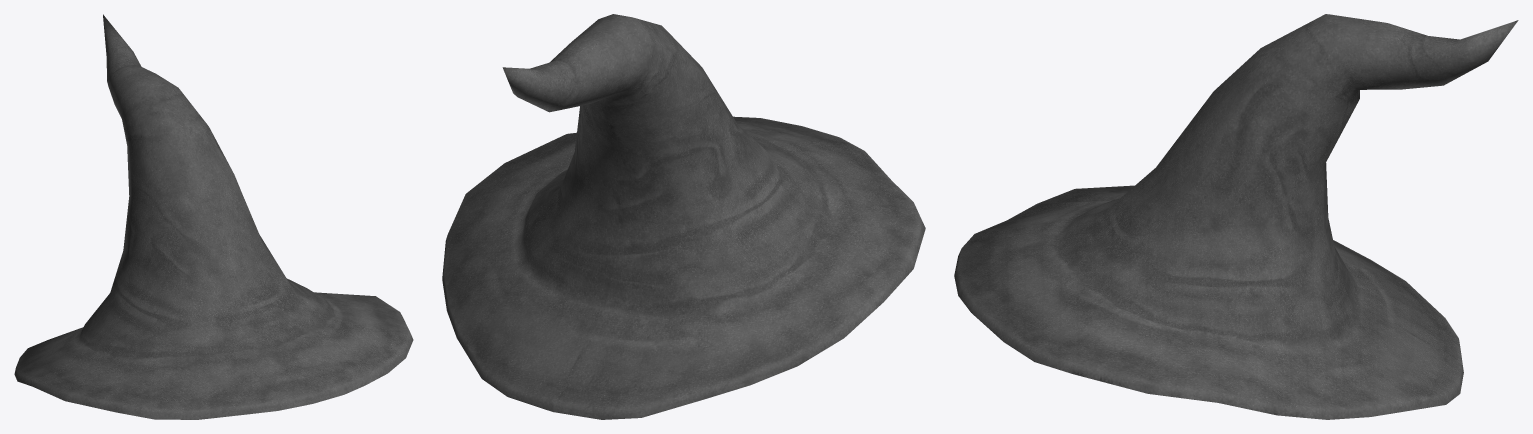
Rendered from WizardHat_LODG.fbx.
3 renders of one model, left to right at view 1: azimuth 30°, elevation 25°; view 2: azimuth 150°, elevation 25°; view 3: azimuth 270°, elevation 25°, orthographic. The views are drawn at different scales.
Visible parts, largest first — view 1: WizardHat_LOD0; view 2: WizardHat_LOD0; view 3: WizardHat_LOD0.
Boxes of the visible parts, x1,y1,x2,y2 form: WizardHat_LOD0: (14,14,413,419); WizardHat_LOD0: (442,14,925,419); WizardHat_LOD0: (954,14,1518,419).
Size of what is drawn, in the model's own units: 44.67 by 36.5 by 51.26.
